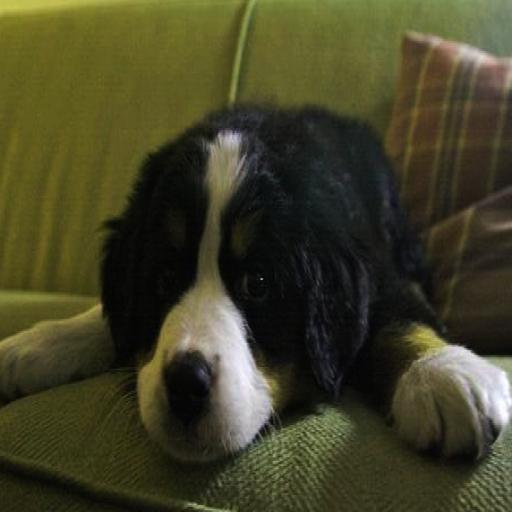dog_face: (101, 132, 358, 450)
